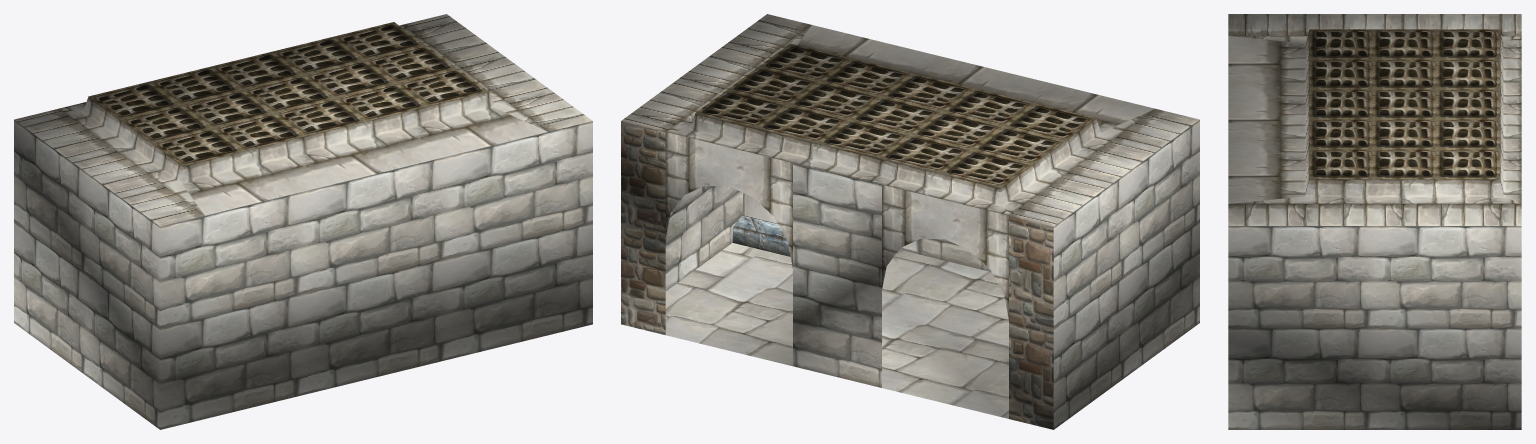
The model's file is stormwind_050.fbx.
3 views of the same model, side by side, from view 1: azimuth 30°, elevation 25°; view 2: azimuth 150°, elevation 25°; view 3: azimuth 270°, elevation 25° (orthographic).
Parts seen in each view (by area): view 1: stormwind_050_39, stormwind_050_40, stormwind_050_81; view 2: stormwind_050_39, stormwind_050_40, stormwind_050_52, stormwind_050_81, stormwind_050_38, stormwind_050_82; view 3: stormwind_050_39, stormwind_050_40, stormwind_050_81.
Part boxes in pixels (x1=…): stormwind_050_39: x1=14, y1=120, x2=592, y2=429; stormwind_050_40: x1=14, y1=14, x2=592, y2=226; stormwind_050_81: x1=88, y1=22, x2=488, y2=165; stormwind_050_39: x1=665, y1=120, x2=1199, y2=429; stormwind_050_40: x1=621, y1=14, x2=1199, y2=319; stormwind_050_52: x1=665, y1=243, x2=1008, y2=418; stormwind_050_81: x1=696, y1=43, x2=1095, y2=187; stormwind_050_38: x1=621, y1=121, x2=1053, y2=429; stormwind_050_82: x1=732, y1=215, x2=790, y2=256; stormwind_050_39: x1=1228, y1=226, x2=1521, y2=429; stormwind_050_40: x1=1228, y1=14, x2=1521, y2=225; stormwind_050_81: x1=1309, y1=29, x2=1499, y2=179.
Size of the model in its own units: 13.7 by 6.62 by 8.02.
